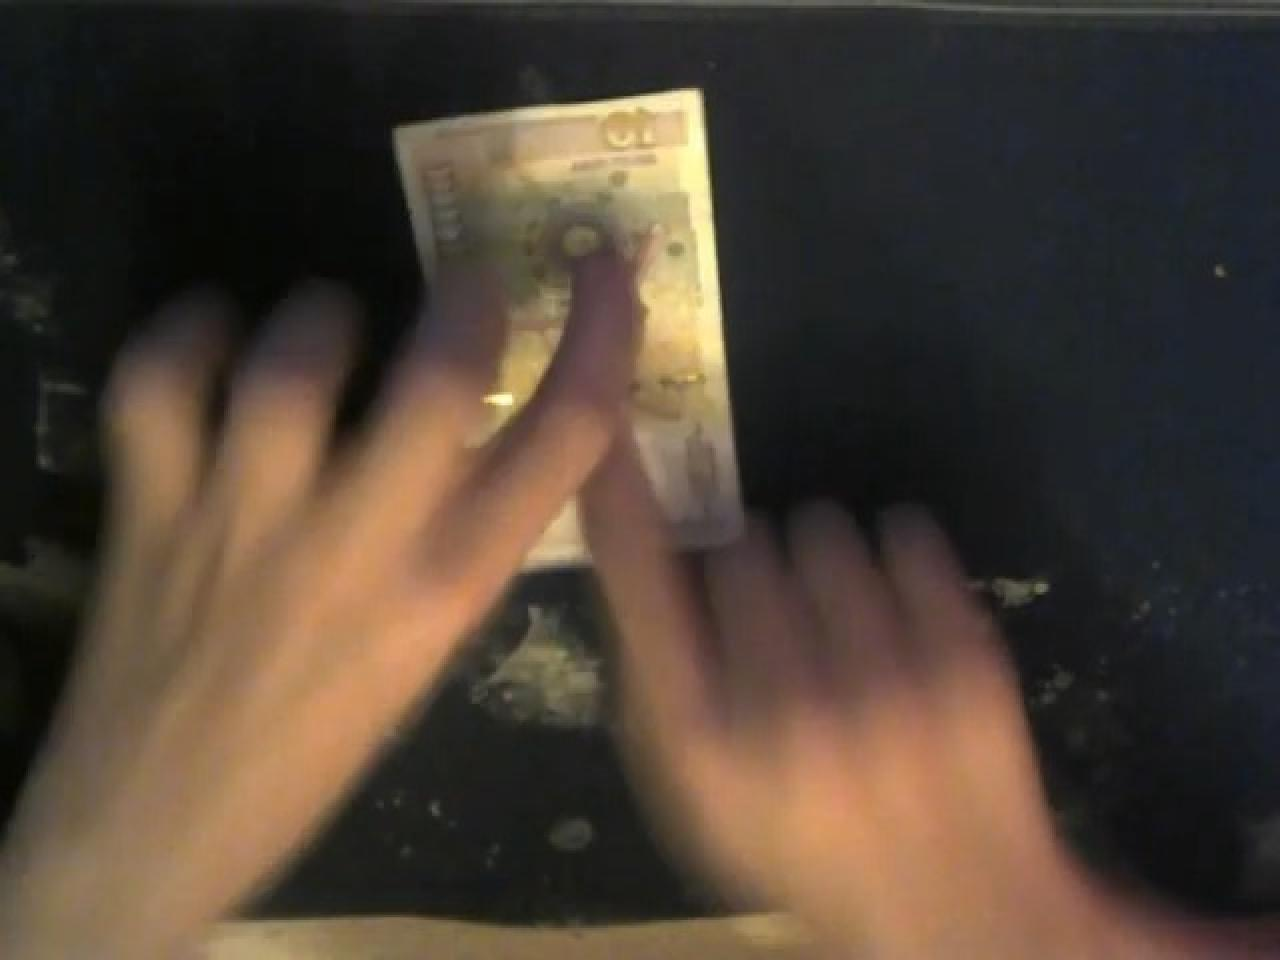10leva: (388, 86, 746, 563)
